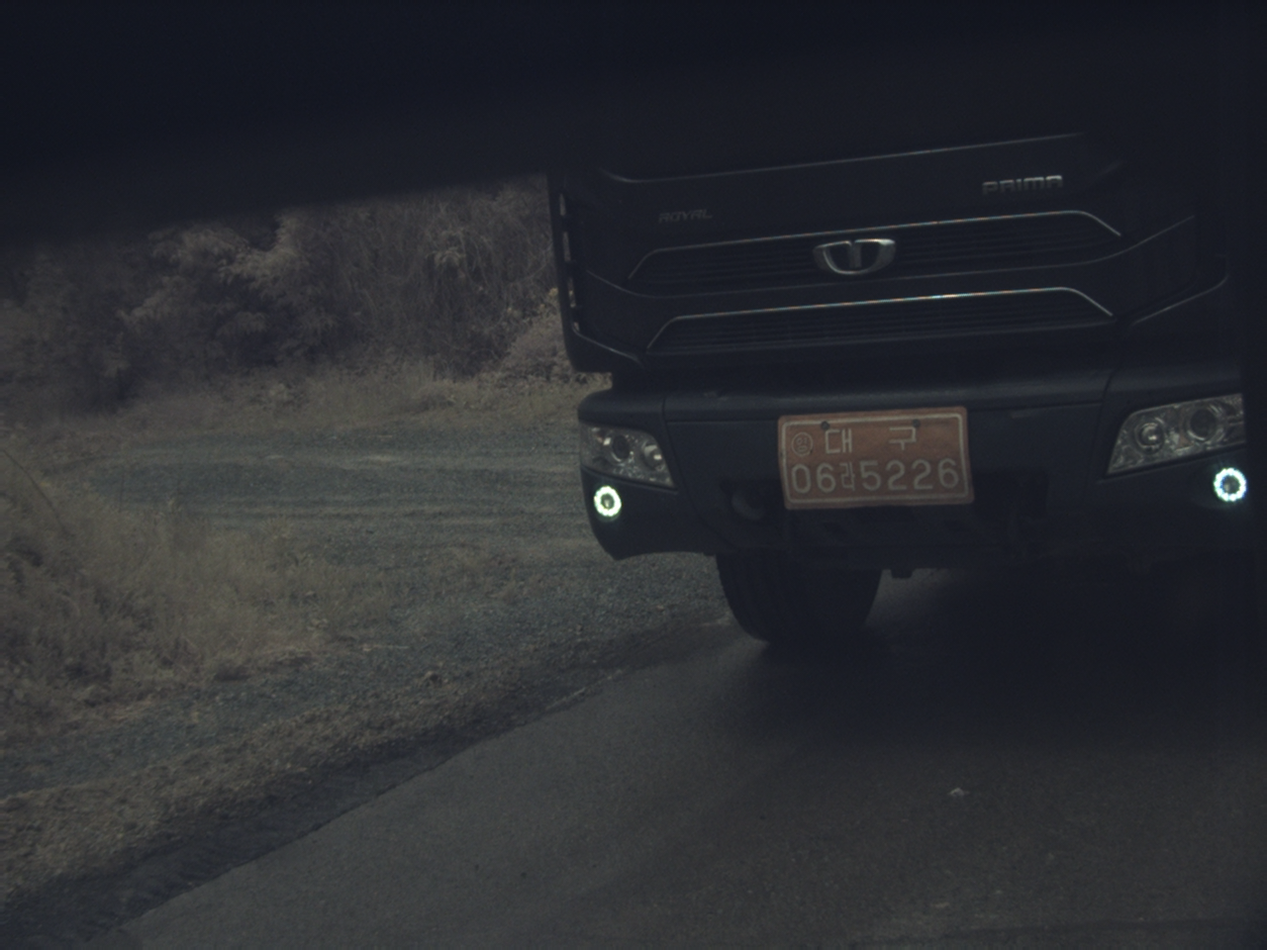license_plate: (780, 408, 973, 508)
truck: (552, 9, 1252, 646)
